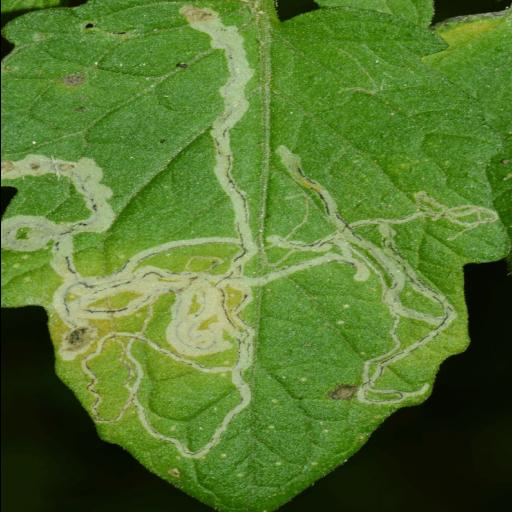disease_tomato: (1, 1, 512, 511)
